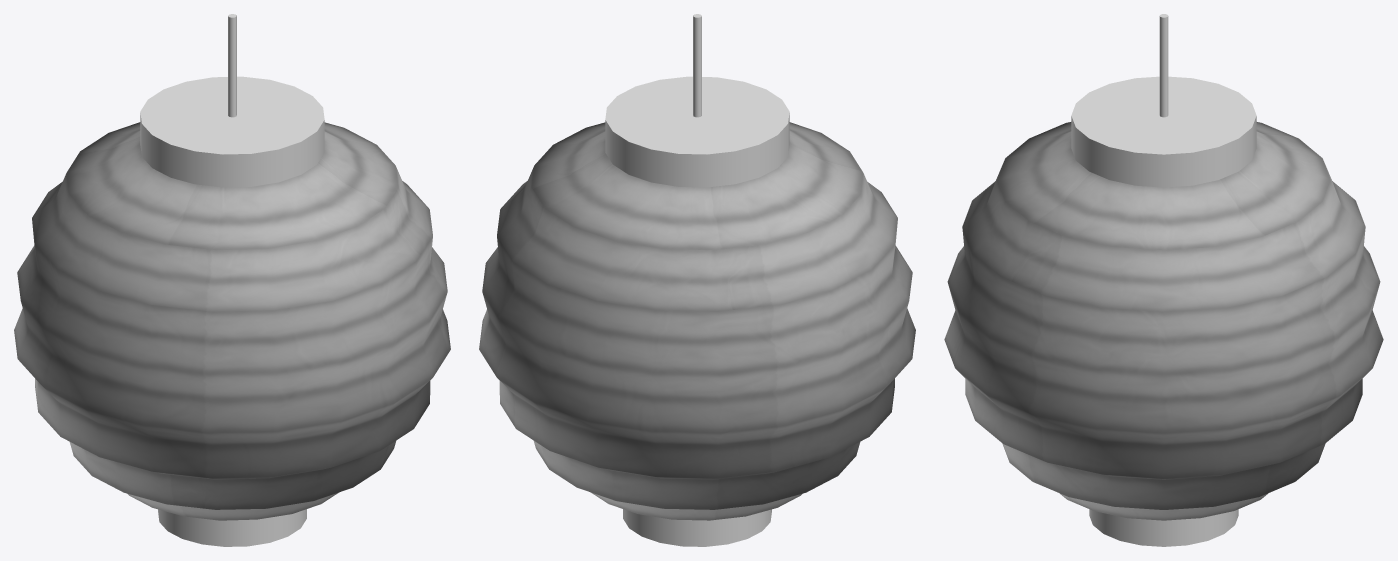
File: LanternPaper.fbx
3 renders of one model, left to right at view 1: azimuth 30°, elevation 25°; view 2: azimuth 150°, elevation 25°; view 3: azimuth 270°, elevation 25°, orthographic.
Parts seen in each view (by area): view 1: body, Top, bottom, stick; view 2: body, Top, bottom, stick; view 3: body, Top, bottom, stick.
Part boxes in pixels (box(x1,y1,x2,y2)): body: box(14, 122, 450, 520); Top: box(140, 76, 324, 187); bottom: box(158, 509, 306, 546); stick: box(228, 14, 236, 117); body: box(479, 122, 915, 520); Top: box(605, 76, 789, 187); bottom: box(623, 509, 771, 546); stick: box(693, 14, 701, 117); body: box(944, 122, 1383, 520); Top: box(1071, 76, 1256, 187); bottom: box(1089, 509, 1238, 546); stick: box(1159, 14, 1168, 117).
Size of the model in its own units: 52.38 by 65.73 by 52.38.
